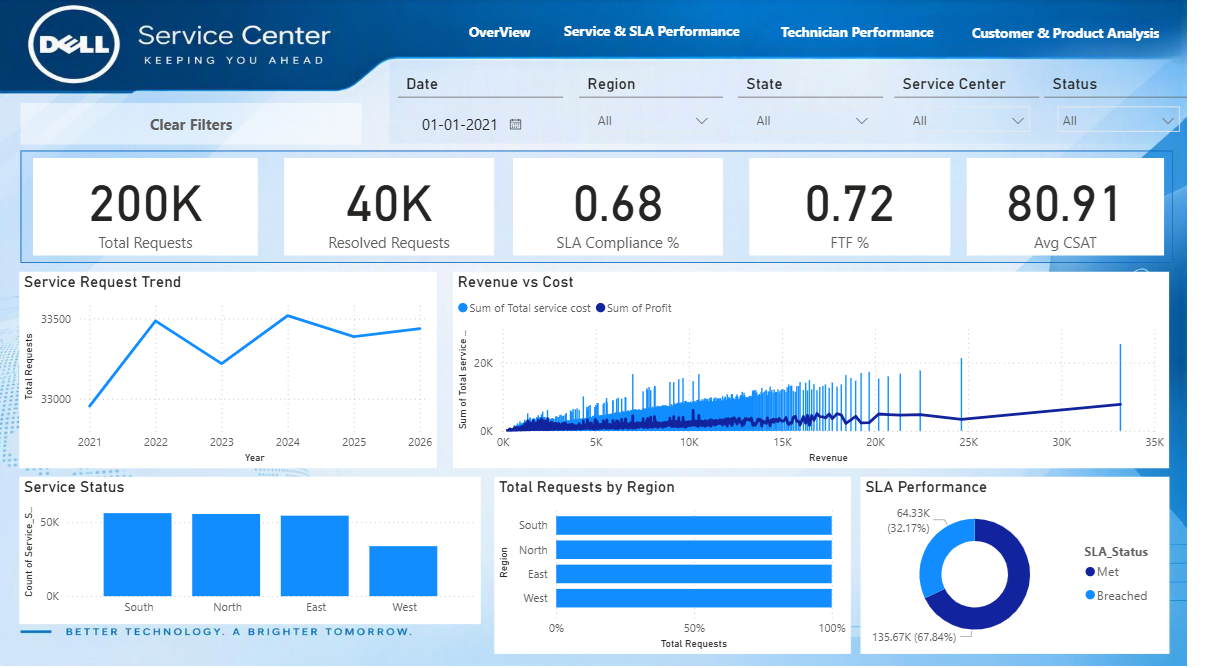

Layout of this report page (visuals, bound fields, positions):
{"tool":"powerbi","page":{"name":"OverView","canvas":[1280,720],"ordinal":0},"visuals":[{"type":"shape","box":[437.9,15.7,833.7,44.6],"z":0},{"type":"actionButton","box":[488.6,15.7,100.1,39.8],"z":1000},{"type":"actionButton","box":[597.2,14.5,209.9,38.6],"z":2000},{"type":"actionButton","box":[820.4,15.7,205.1,39.8],"z":3000},{"type":"actionButton","box":[1035.1,14.5,223.2,43.4],"z":4000},{"type":"shape","box":[421,67.6,859,89.3],"z":5000},{"type":"slicer","title":"Date","fields":{"Values":["Dim_Date.Date"]},"box":[429.5,76,177.3,72.4],"z":6000},{"type":"slicer","title":"Region","fields":{"Values":["Dim_Location.Region"]},"box":[624.9,76,154.4,72.4],"z":7000},{"type":"slicer","title":"State","fields":{"Values":["Dim_Location.State"]},"box":[795,76,155.6,72.4],"z":8000},{"type":"slicer","title":"Service Center","fields":{"Values":["Dim_Location.Service_Center"]},"box":[962.7,76,155.6,72.4],"z":9000},{"type":"slicer","title":"Status","fields":{"Values":["Fact_Service.Service_Status"]},"box":[1124.4,76,155.6,72.4],"z":10000},{"type":"actionButton","title":"Clear Filters","box":[24.1,112.2,366.8,44.6],"z":11000},{"type":"shape","box":[24.2,163.9,1238.6,120.9],"z":12000},{"type":"card","fields":{"Values":["Fact_Service.FTF %"]},"box":[807.4,172,216.3,104.8],"z":13000},{"type":"card","fields":{"Values":["Fact_Service.Open Requests"]},"box":[553.5,172,225.7,104.8],"z":14000},{"type":"card","fields":{"Values":["Fact_Service.Resolved Requests"]},"box":[307.6,172,225.7,104.8],"z":15000},{"type":"card","fields":{"Values":["Fact_Service.Avg CSAT"]},"box":[1041.1,172,212.3,104.8],"z":16000},{"type":"card","fields":{"Values":["Fact_Service.Total Requests"]},"box":[37.6,172,241.8,104.8],"z":17000},{"type":"lineChart","title":"Service Request Trend","fields":{"Category":["Dim_Date.Date.Variation.Date Hierarchy.Year","Dim_Date.Date.Variation.Date Hierarchy.Quarter","Dim_Date.Date.Variation.Date Hierarchy.Month","Dim_Date.Date.Variation.Date Hierarchy.Day"],"Y":["Fact_Service.Total Requests"],"Y2":["Fact_Service.Resolved Requests"]},"box":[22.8,294.2,448.7,210.9],"z":18000},{"type":"donutChart","title":"SLA Performance","fields":{"Category":["Fact_Service.SLA_Status"],"Series":["Dim_Product.Product_Category"],"Y":["CountNonNull(Fact_Service.Service_Request_ID)"]},"box":[927,514.5,331.8,190.8],"z":19000},{"type":"hundredPercentStackedBarChart","fields":{"Category":["Dim_Location.Region"],"Y":["Fact_Service.Total Requests"],"Series":["Fact_Service.Service_Status"]},"box":[533.2,513.9,382.4,191.8],"z":20000},{"type":"clusteredColumnChart","title":"Service Status","fields":{"Y":["CountNonNull(Fact_Service.Service_Status)"],"Category":["Dim_Location.Region"],"Series":["Fact_Service.Warranty_Status"]},"box":[22.8,514.5,495.7,158.5],"z":21000},{"type":"lineClusteredColumnComboChart","title":"Revenue vs Cost","fields":{"Category":["Fact_Service.Revenue"],"Y":["Fact_Service.Total Service Cost"],"Y2":["Sum(Fact_Service.Profit)"]},"box":[489,294.2,769.8,210.9],"z":22000}]}

Visuals, with their boxes in screenshot pixels (x1, y1, x2, y2), scaled from the page's 1280x720 canvas onto the 1205x668 screenshot:
shape: box(412, 15, 1197, 56)
actionButton: box(460, 15, 554, 51)
actionButton: box(562, 13, 760, 49)
actionButton: box(772, 15, 965, 51)
actionButton: box(974, 13, 1185, 54)
shape: box(396, 63, 1204, 146)
"Date" slicer: box(404, 71, 571, 138)
"Region" slicer: box(588, 71, 734, 138)
"State" slicer: box(748, 71, 895, 138)
"Service Center" slicer: box(906, 71, 1053, 138)
"Status" slicer: box(1059, 71, 1204, 138)
"Clear Filters" actionButton: box(23, 104, 368, 145)
shape: box(23, 152, 1189, 264)
card - Fact_Service.FTF %: box(760, 160, 964, 257)
card - Fact_Service.Open Requests: box(521, 160, 734, 257)
card - Fact_Service.Resolved Requests: box(290, 160, 502, 257)
card - Fact_Service.Avg CSAT: box(980, 160, 1180, 257)
card - Fact_Service.Total Requests: box(35, 160, 263, 257)
"Service Request Trend" lineChart: box(21, 273, 444, 469)
"SLA Performance" donutChart: box(873, 477, 1185, 654)
hundredPercentStackedBarChart - Dim_Location.Region x Fact_Service.Total Requests: box(502, 477, 862, 655)
"Service Status" clusteredColumnChart: box(21, 477, 488, 624)
"Revenue vs Cost" lineClusteredColumnComboChart: box(460, 273, 1185, 469)
